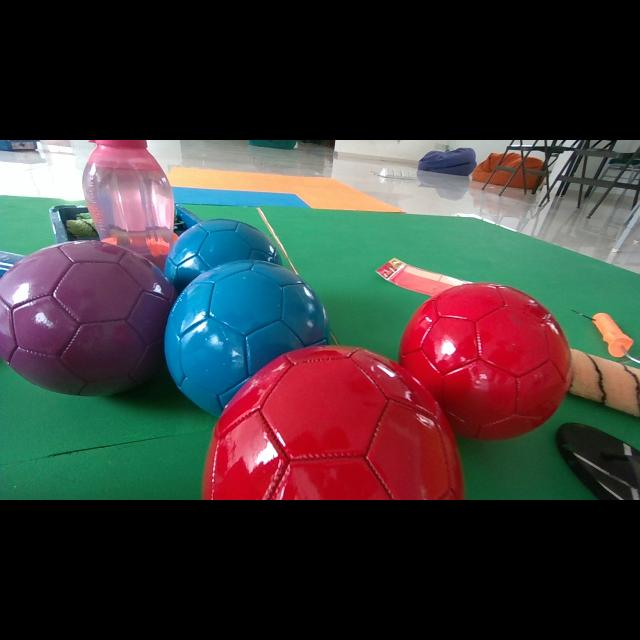B: (165, 260, 329, 416), (165, 219, 281, 291)
P: (0, 240, 176, 395)
R: (204, 346, 464, 499), (400, 282, 571, 440)
